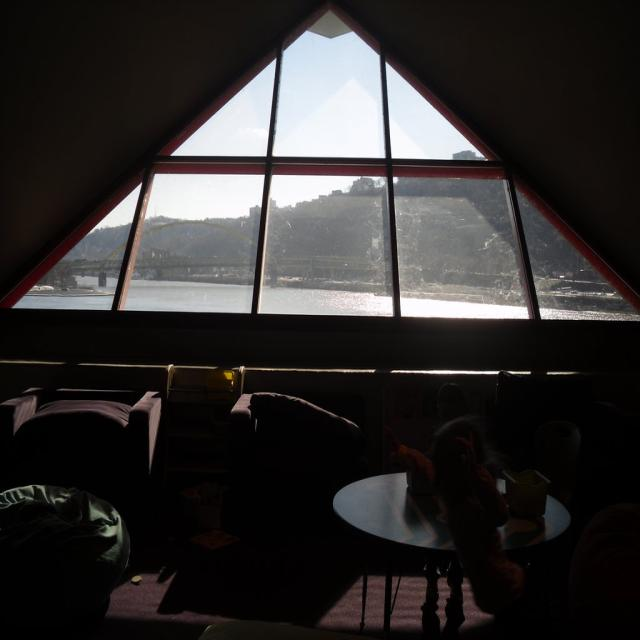Table: (330, 446, 578, 608)
